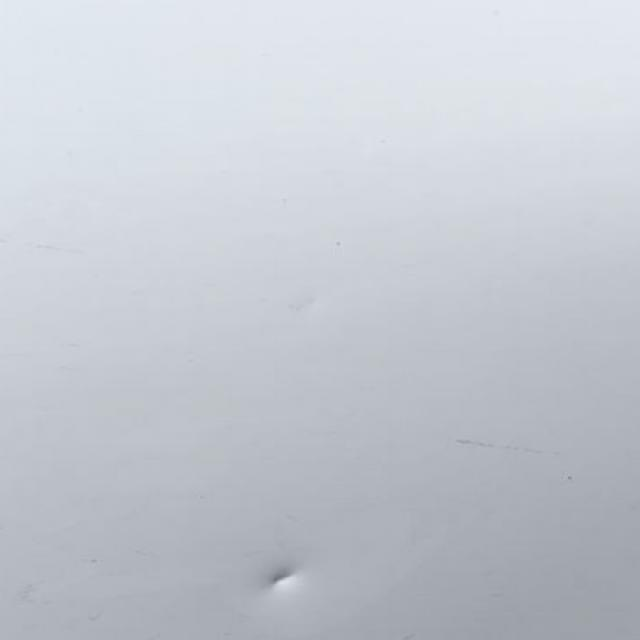dents: (225, 550, 352, 610)
